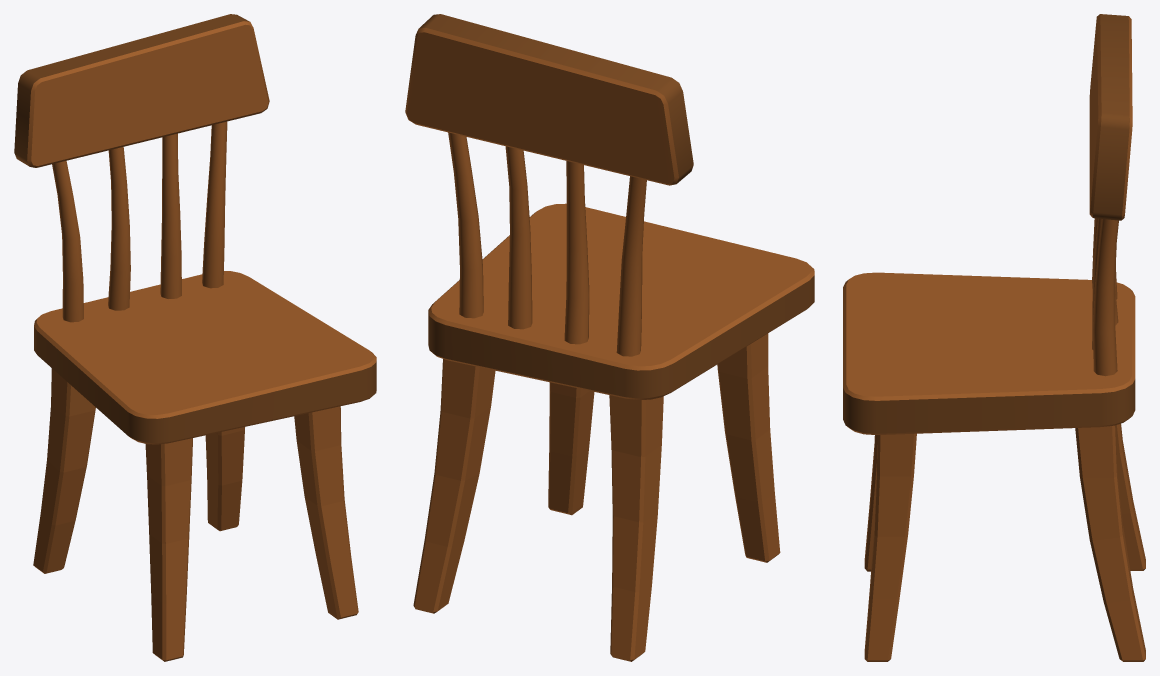
The model's file is Teacher_chair.fbx.
3 views of the same model, side by side, from view 1: azimuth 30°, elevation 25°; view 2: azimuth 150°, elevation 25°; view 3: azimuth 270°, elevation 25° (orthographic). The views are drawn at different scales.
Parts seen in each view (by area): view 1: Teacher_chair; view 2: Teacher_chair; view 3: Teacher_chair.
Boxes of the visible parts, x1,y1,x2,y2 form: Teacher_chair: [14, 14, 376, 661]; Teacher_chair: [405, 14, 814, 661]; Teacher_chair: [843, 14, 1145, 661].
Bounding box in the file's own units: 0.5533 × 1.11 × 0.5579.
